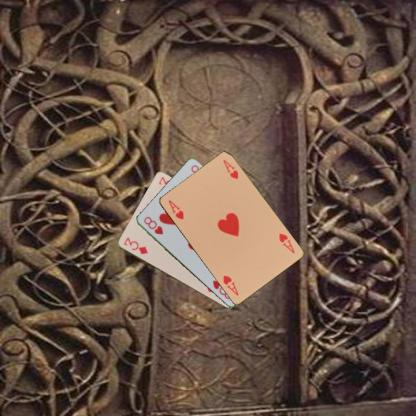3d: (121, 235, 149, 256)
8h: (141, 214, 164, 236)
Ah: (276, 230, 296, 255), (165, 197, 185, 221)
